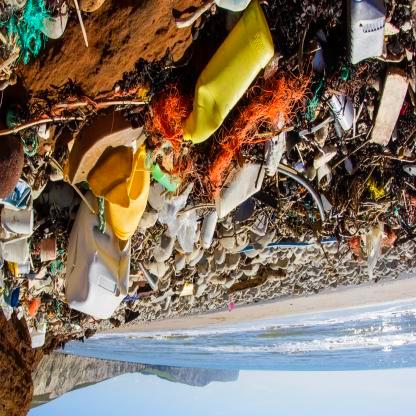Plastic: (184, 16, 281, 140), (66, 192, 136, 327), (108, 150, 146, 262), (337, 5, 389, 64), (216, 169, 268, 218), (6, 180, 37, 216), (7, 211, 35, 238), (29, 318, 45, 357), (2, 240, 29, 263), (38, 237, 57, 265), (10, 266, 35, 281)
Trash: (166, 192, 199, 249), (362, 226, 384, 273)
